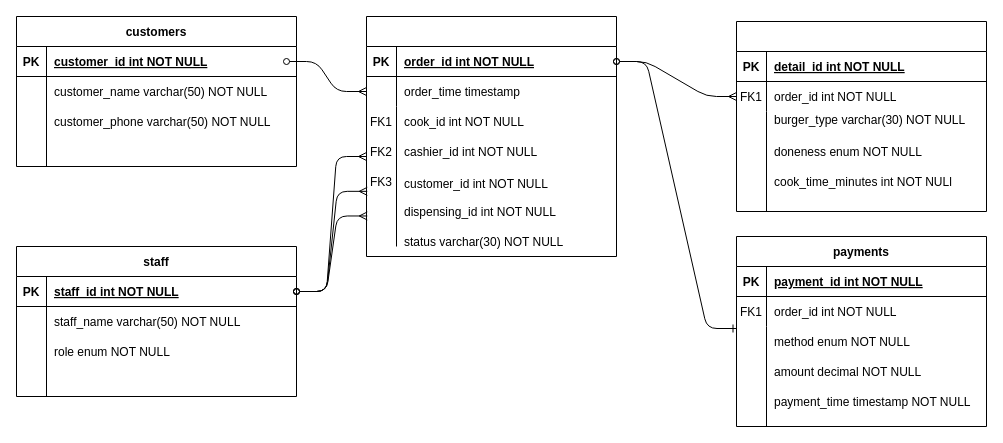
Some shapes in this 1003 by 443 pixel diagram are drawn without their labels. Each missing label, with the box of its shape:
order_details: (736, 20, 986, 212)
orders: (366, 16, 616, 256)
